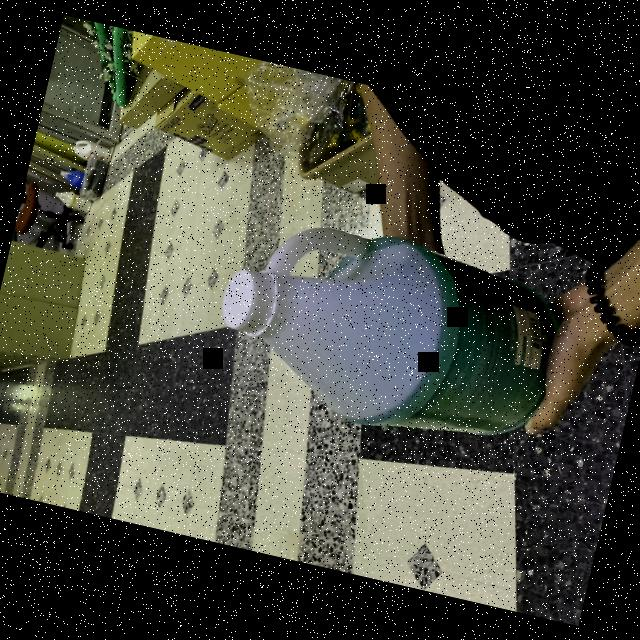chemical_plastic_gallon: (200, 199, 570, 459)
